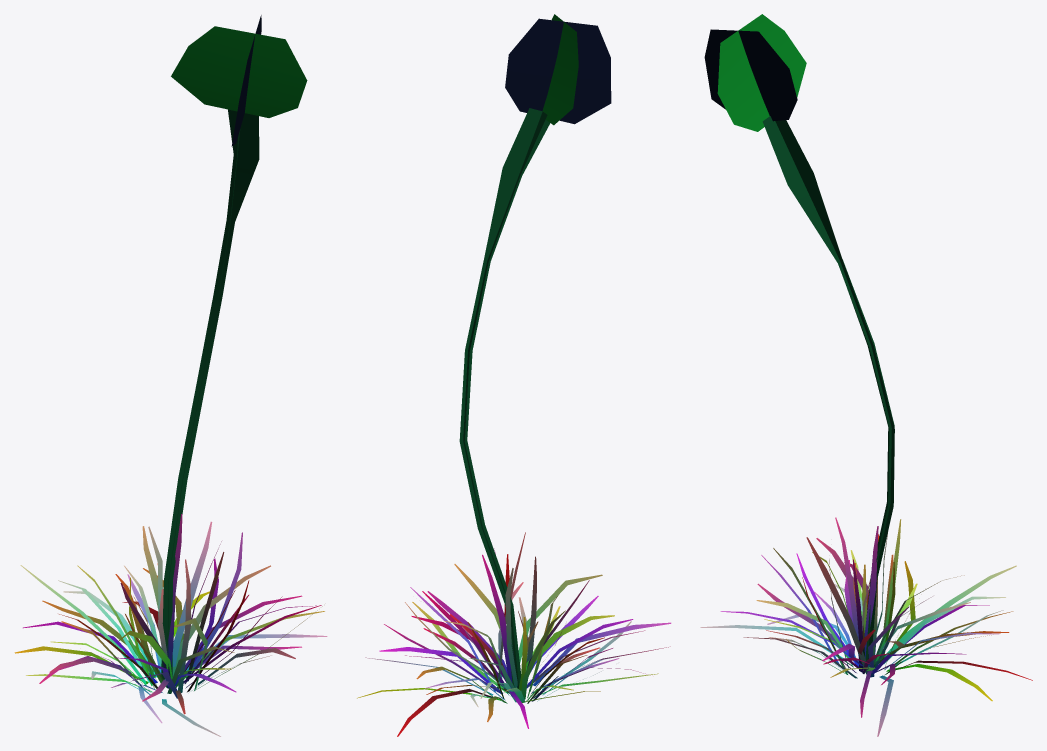
Rendered from Sea_Thrift_vkbgaihha_Mid_vkbgaihha_VarB_LOD1.fbx.
3 renders of one model, left to right at view 1: azimuth 30°, elevation 25°; view 2: azimuth 150°, elevation 25°; view 3: azimuth 270°, elevation 25°, orthographic. The views are drawn at different scales.
Parts seen in each view (by area): view 1: _3xoa_VarB_LOD2; view 2: _3xoa_VarB_LOD2; view 3: _3xoa_VarB_LOD2.
Boxes of the visible parts, <box> form: _3xoa_VarB_LOD2: <box>14,15,327,736</box>; _3xoa_VarB_LOD2: <box>357,14,671,736</box>; _3xoa_VarB_LOD2: <box>700,14,1032,736</box>.
Size of the model in its own units: 8.01 by 17.14 by 7.93.
